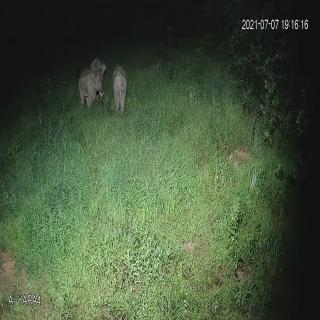Elephant: (77, 67, 106, 112), (110, 63, 128, 116)
